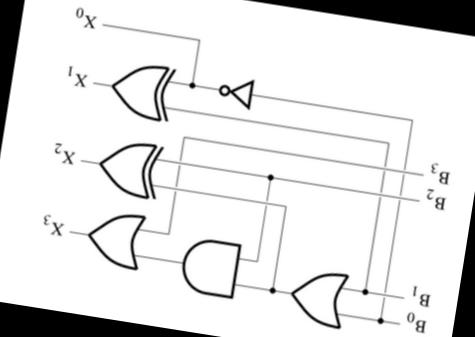and: (173, 225, 247, 306)
not: (212, 67, 260, 114)
or: (283, 260, 355, 334), (80, 205, 152, 273)
xor: (101, 53, 178, 129), (87, 132, 166, 204)
